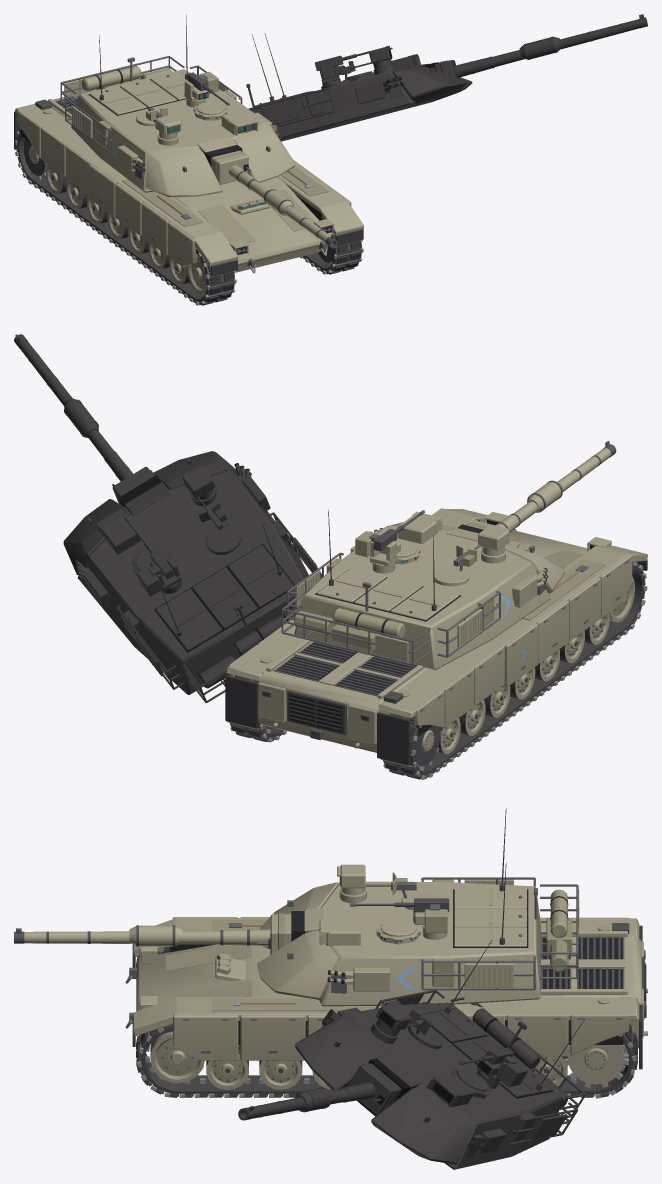
The model's file is tank__m1a2_sepv3_abrams.glb.
3 renders of one model, top to bottom at view 1: azimuth 30°, elevation 25°; view 2: azimuth 150°, elevation 25°; view 3: azimuth 270°, elevation 25°, orthographic. The views are drawn at different scales.
Visible parts, largest first — view 1: Hull_Mesh, Turret_Mesh, Wreck, Track_L_Mesh, Gun_Mesh, Track_R_Mesh, CROWS_Mesh, Gunner_Sight_Mesh, CITV_Mesh, Sprocket_L_Mesh, Hatch_Commander_Mesh, Idler_L_Mesh (+2 smaller); view 2: Wreck, Hull_Mesh, Turret_Mesh, Track_L_Mesh, Gun_Mesh, CROWS_Mesh, Hatch_Loader_Mesh, CITV_Mesh, Gunner_Sight_Mesh, Sprocket_L_Mesh, Track_R_Mesh, Wheel_L1_Mesh; view 3: Wreck, Hull_Mesh, Turret_Mesh, Track_R_Mesh, Gun_Mesh, Sprocket_R_Mesh, Idler_R_Mesh, Wheel_R6_Mesh, Wheel_R5_Mesh, Gunner_Sight_Mesh, CITV_Mesh, CROWS_Mesh (+4 smaller).
Part boxes in pixels (x1,y1,x2,y2): Hull_Mesh: (14,77,363,276); Turret_Mesh: (60,56,295,197); Wreck: (246,14,647,141); Track_L_Mesh: (14,127,236,305); Gun_Mesh: (211,150,337,248); Track_R_Mesh: (300,232,363,274); CROWS_Mesh: (184,71,218,107); Gunner_Sight_Mesh: (221,110,258,136); CITV_Mesh: (155,114,181,145); Sprocket_L_Mesh: (22,137,46,179); Hatch_Commander_Mesh: (193,102,228,120); Idler_L_Mesh: (187,255,206,294); Wreck: (14,334,321,702); Hull_Mesh: (225,508,647,765); Turret_Mesh: (281,522,564,669); Track_L_Mesh: (380,561,647,779); Gun_Mesh: (466,440,616,543); CROWS_Mesh: (355,531,400,573); Hatch_Loader_Mesh: (434,545,480,586); CITV_Mesh: (478,525,509,563); Gunner_Sight_Mesh: (398,511,442,543); Sprocket_L_Mesh: (415,726,441,770); Track_R_Mesh: (227,676,286,742); Wheel_L1_Mesh: (459,700,485,735); Wreck: (238,940,586,1169); Hull_Mesh: (125,917,647,1069); Turret_Mesh: (257,877,579,1006); Track_R_Mesh: (136,1023,637,1098); Gun_Mesh: (14,913,291,954); Sprocket_R_Mesh: (564,1044,628,1087); Idler_R_Mesh: (150,1031,204,1083); Wheel_R6_Mesh: (206,1045,248,1089); Wheel_R5_Mesh: (259,1060,302,1089); Gunner_Sight_Mesh: (319,919,360,946); CITV_Mesh: (337,864,366,902); CROWS_Mesh: (413,904,447,939).
Size of what is drawn, in the model's own units: 11.14 by 3.67 by 9.79.
